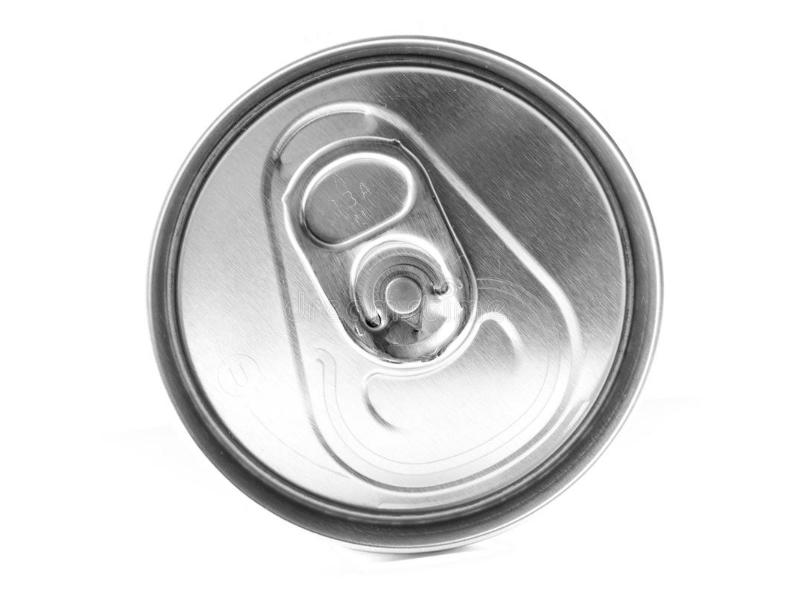can: (142, 27, 683, 562)
